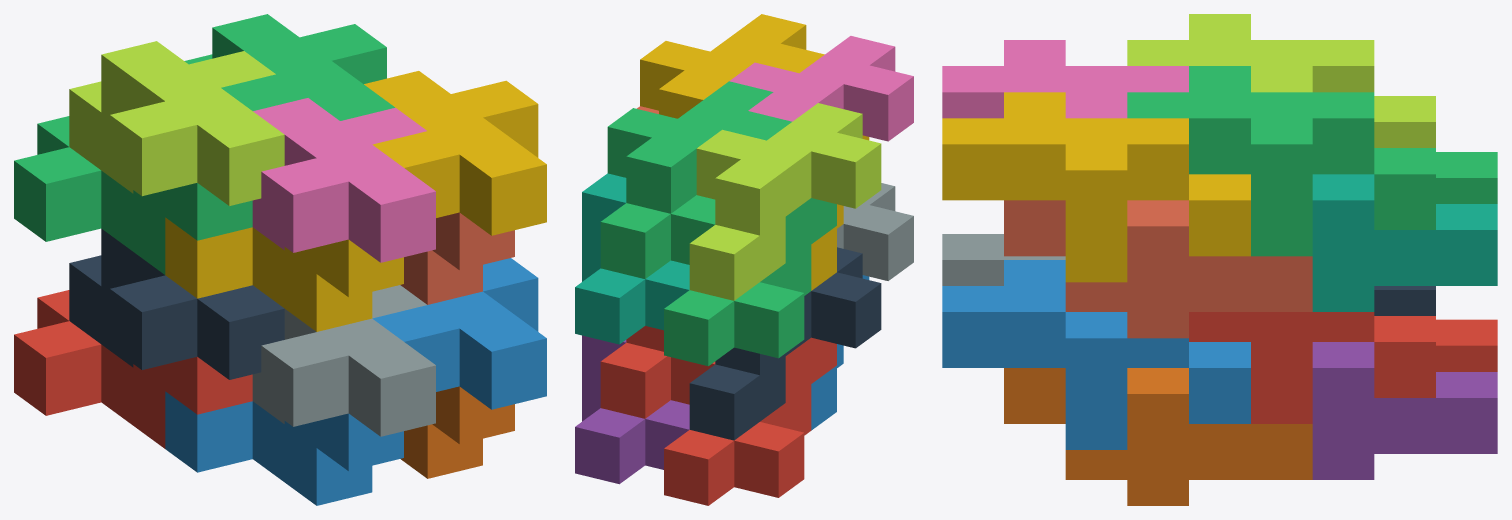
Rendered from tiling.obj.
3 views of the same model, side by side, from view 1: azimuth 30°, elevation 25°; view 2: azimuth 150°, elevation 25°; view 3: azimuth 270°, elevation 25° (orthographic). The views are drawn at different scales.
Parts seen in each view (by area): view 1: copy_2_domain_3, copy_2_domain_4, copy_2_domain_8, copy_2_domain_1, copy_2_domain_2, copy_1_domain_3, copy_1_domain_1, copy_2_domain_6, copy_1_domain_4, copy_1_domain_2, copy_2_domain_7, copy_1_domain_8 (+1 smaller); view 2: copy_2_domain_3, copy_2_domain_7, copy_1_domain_3, copy_1_domain_1, copy_2_domain_1, copy_2_domain_4, copy_2_domain_8, copy_1_domain_7, copy_1_domain_5, copy_2_domain_5, copy_2_domain_2, copy_1_domain_4 (+1 smaller); view 3: copy_2_domain_8, copy_2_domain_7, copy_2_domain_6, copy_1_domain_8, copy_1_domain_6, copy_1_domain_5, copy_1_domain_7, copy_2_domain_5, copy_2_domain_3, copy_2_domain_4, copy_2_domain_2, copy_1_domain_1 (+2 smaller).
Part boxes in pixels (left/top/right/bottom): copy_2_domain_3: left=69, top=41, right=284, bottom=205; copy_2_domain_4: left=252, top=98, right=435, bottom=262; copy_2_domain_8: left=364, top=71, right=546, bottom=235; copy_2_domain_1: left=69, top=228, right=284, bottom=379; copy_2_domain_2: left=252, top=285, right=435, bottom=436; copy_1_domain_3: left=14, top=116, right=252, bottom=274; copy_1_domain_1: left=14, top=290, right=252, bottom=448; copy_2_domain_6: left=372, top=258, right=546, bottom=409; copy_1_domain_4: left=165, top=217, right=403, bottom=331; copy_1_domain_2: left=165, top=391, right=403, bottom=505; copy_2_domain_7: left=184, top=14, right=394, bottom=120; copy_1_domain_8: left=400, top=212, right=514, bottom=304; copy_2_domain_3: left=689, top=103, right=881, bottom=300; copy_2_domain_7: left=600, top=81, right=791, bottom=278; copy_1_domain_3: left=664, top=195, right=836, bottom=366; copy_1_domain_1: left=664, top=337, right=836, bottom=505; copy_2_domain_1: left=689, top=247, right=881, bottom=440; copy_2_domain_4: left=729, top=36, right=913, bottom=141; copy_2_domain_8: left=640, top=14, right=824, bottom=118; copy_1_domain_7: left=575, top=173, right=689, bottom=344; copy_1_domain_5: left=575, top=335, right=689, bottom=484; copy_2_domain_5: left=600, top=326, right=670, bottom=418; copy_2_domain_2: left=837, top=183, right=913, bottom=280; copy_1_domain_4: left=811, top=135, right=869, bottom=290; copy_2_domain_8: left=942, top=92, right=1250, bottom=282; copy_2_domain_7: left=1127, top=66, right=1435, bottom=256; copy_2_domain_6: left=942, top=260, right=1250, bottom=449; copy_1_domain_8: left=1004, top=200, right=1312, bottom=338; copy_1_domain_6: left=1004, top=368, right=1312, bottom=505; copy_1_domain_5: left=1312, top=342, right=1497, bottom=479; copy_1_domain_7: left=1312, top=174, right=1497, bottom=311; copy_2_domain_5: left=1189, top=312, right=1435, bottom=423; copy_2_domain_3: left=1127, top=14, right=1435, bottom=147; copy_2_domain_4: left=942, top=40, right=1188, bottom=118; copy_2_domain_2: left=942, top=234, right=1065, bottom=285; copy_1_domain_1: left=1436, top=319, right=1497, bottom=371.
Bounding box in the file's own units: 6 × 6 × 9.
